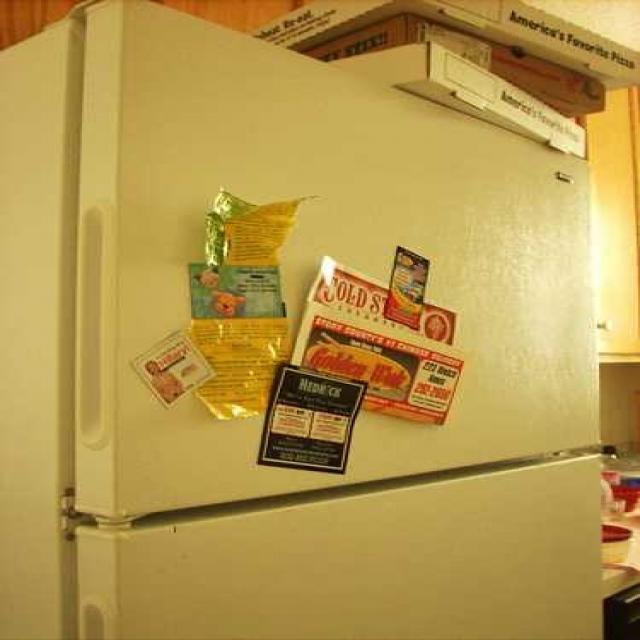refrigerator: (77, 0, 596, 640)
